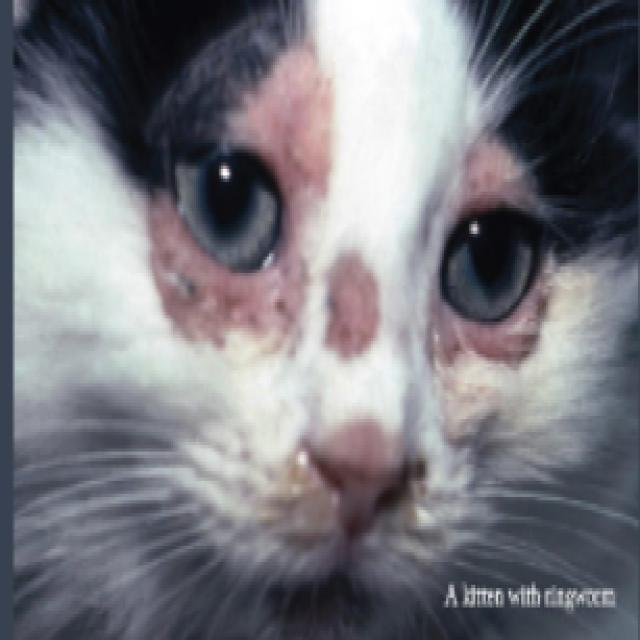hac lao: (310, 216, 418, 388)
